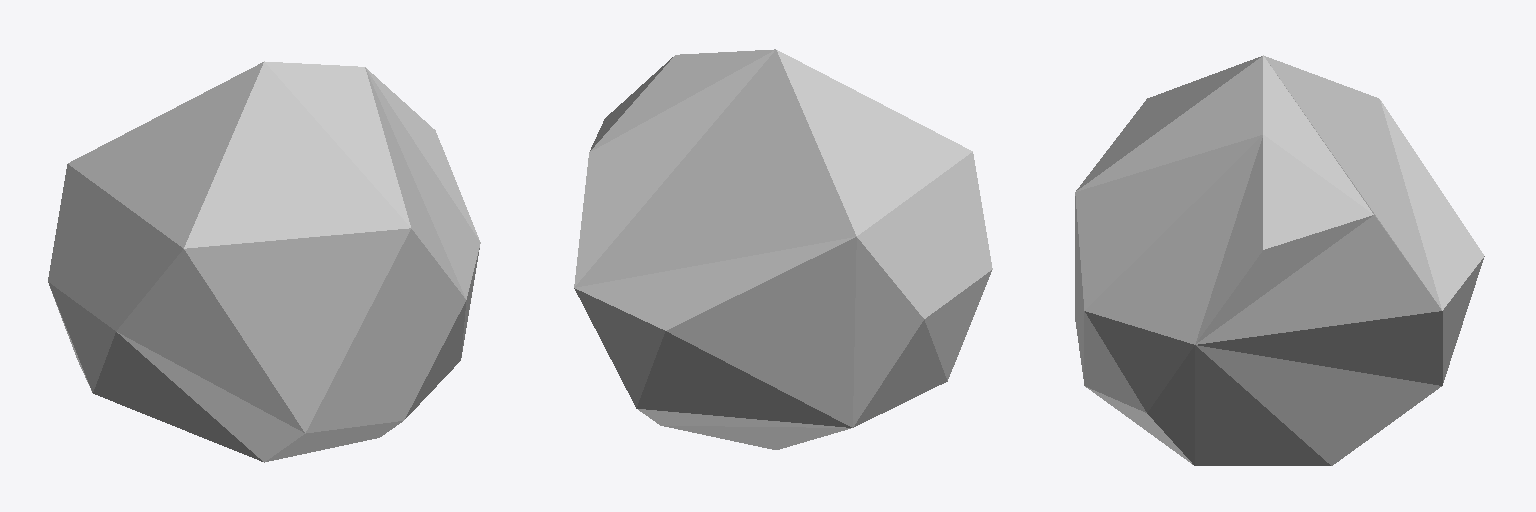
File: asteroid0.obj
The picture shows the model from 3 angles: view 1: azimuth 30°, elevation 25°; view 2: azimuth 150°, elevation 25°; view 3: azimuth 270°, elevation 25°; orthographic projection.
Parts seen in each view (by area): view 1: Icosphere; view 2: Icosphere; view 3: Icosphere.
Boxes of the visible parts, x1,y1,x2,y2 form: Icosphere: [48, 61, 480, 462]; Icosphere: [574, 49, 992, 449]; Icosphere: [1075, 55, 1484, 465].
Bounding box in the file's own units: 5.11 × 5.37 × 4.97.